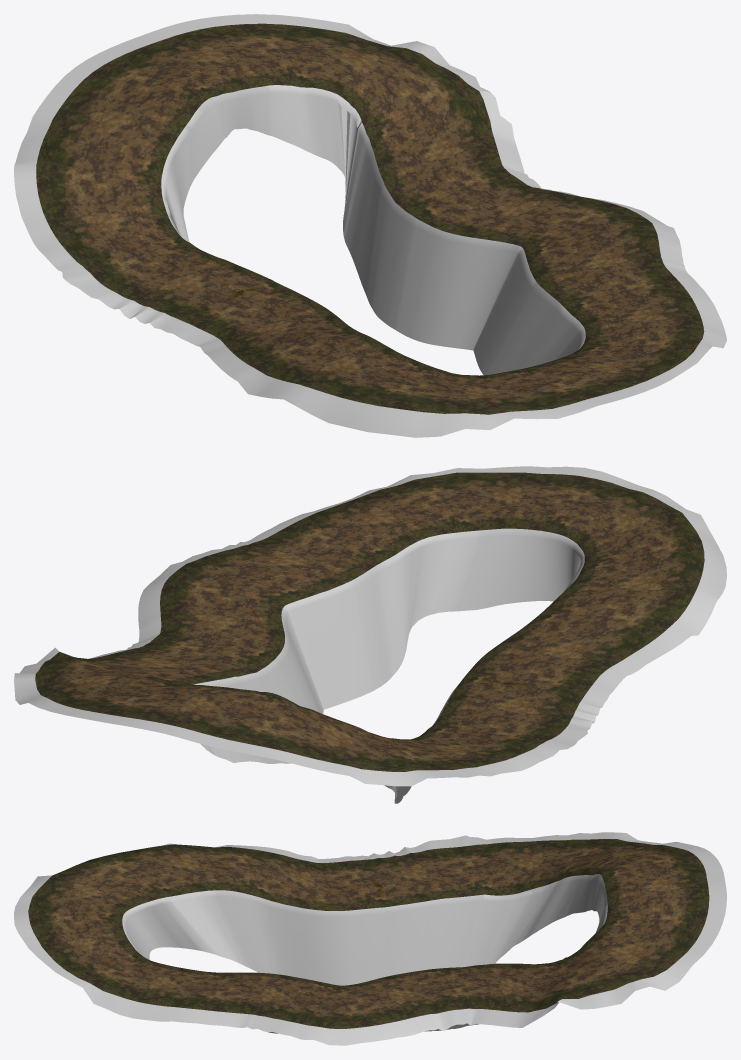
Rendered from valmisroad.fbx.
3 renders of one model, top to bottom at view 1: azimuth 30°, elevation 25°; view 2: azimuth 150°, elevation 25°; view 3: azimuth 270°, elevation 25°, orthographic. The views are drawn at different scales.
Visible parts, largest first — view 1: pCube8; view 2: pCube8; view 3: pCube8.
Boxes of the visible parts, x1,y1,x2,y2 form: pCube8: (14,14,726,437); pCube8: (14,466,726,803); pCube8: (14,832,726,1045).
Bounding box in the file's own units: 6688 × 2134 × 9994.
